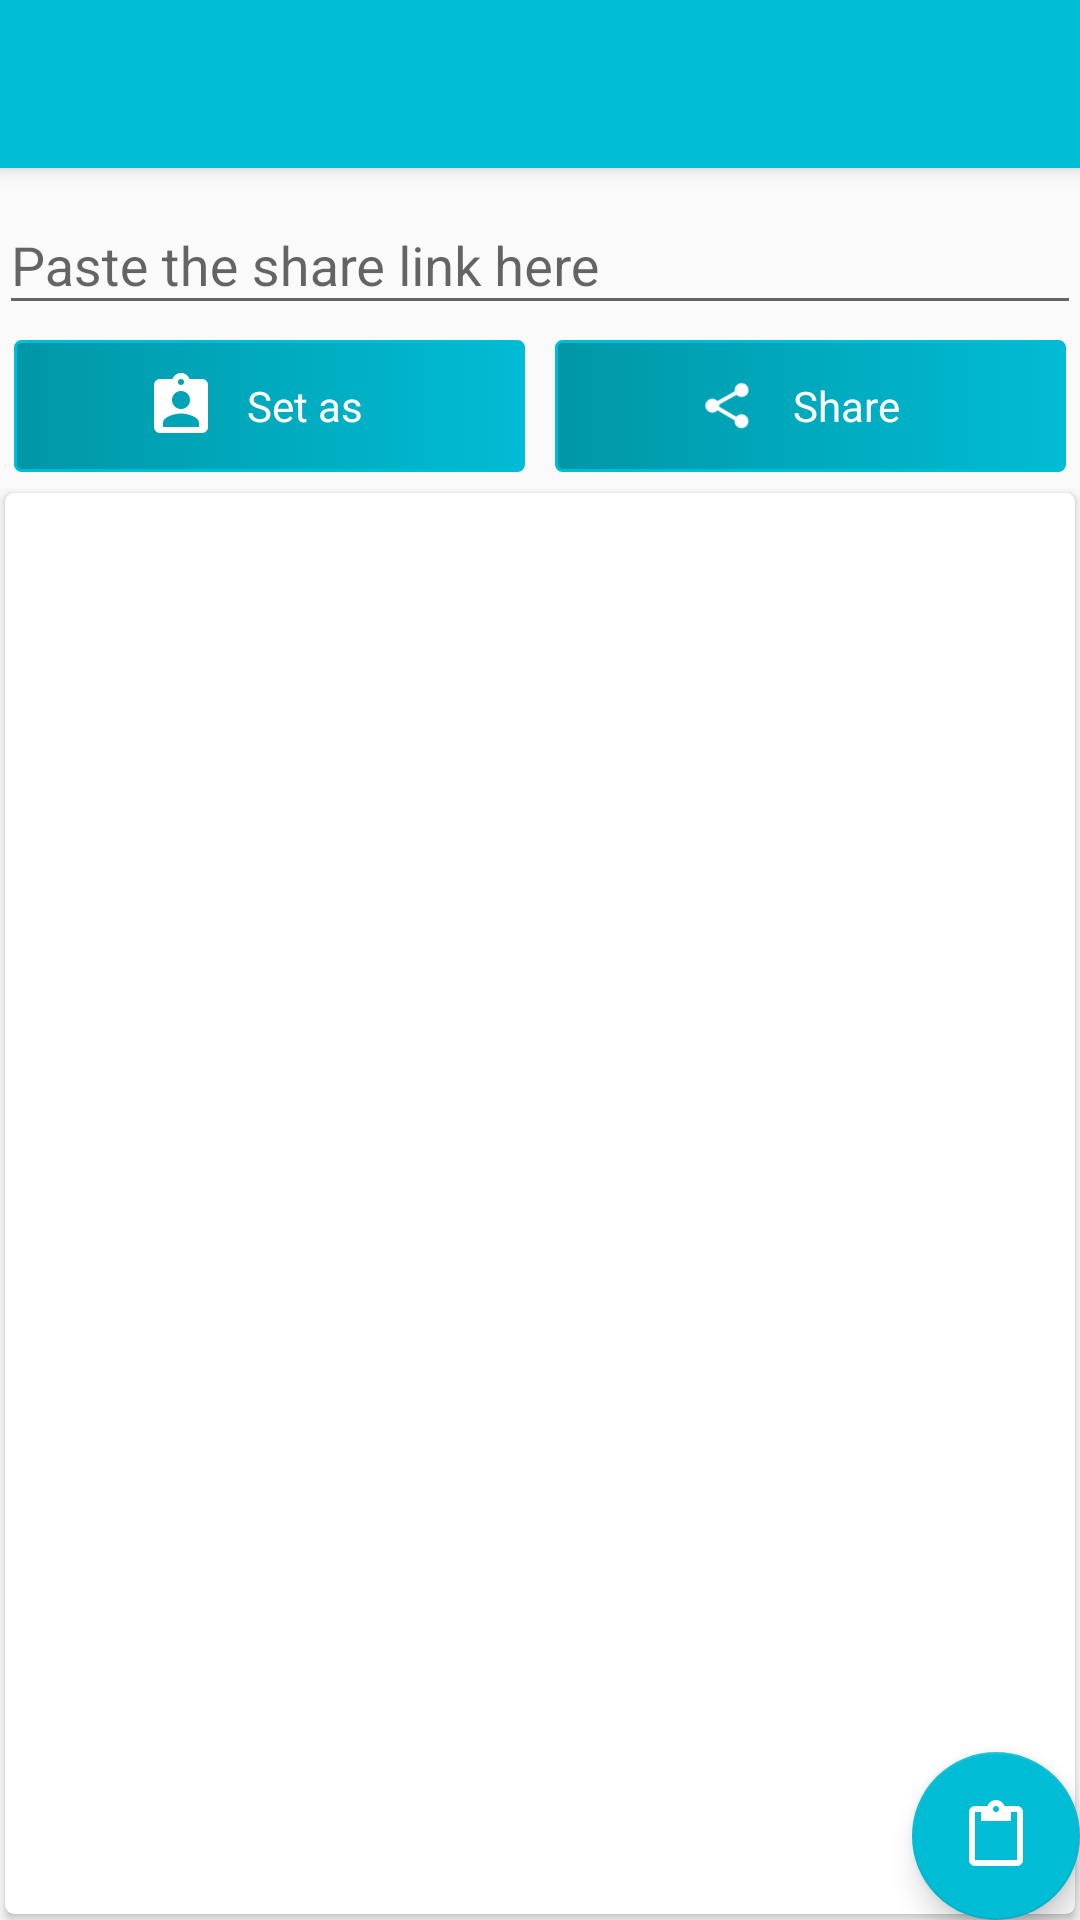

Icons on this 1080px x 1920px Android screen, each with its box as box(x1, y1, x2, y2):
assignment ind: box(154, 373, 208, 433)
content paste: box(912, 1752, 1080, 1920)
